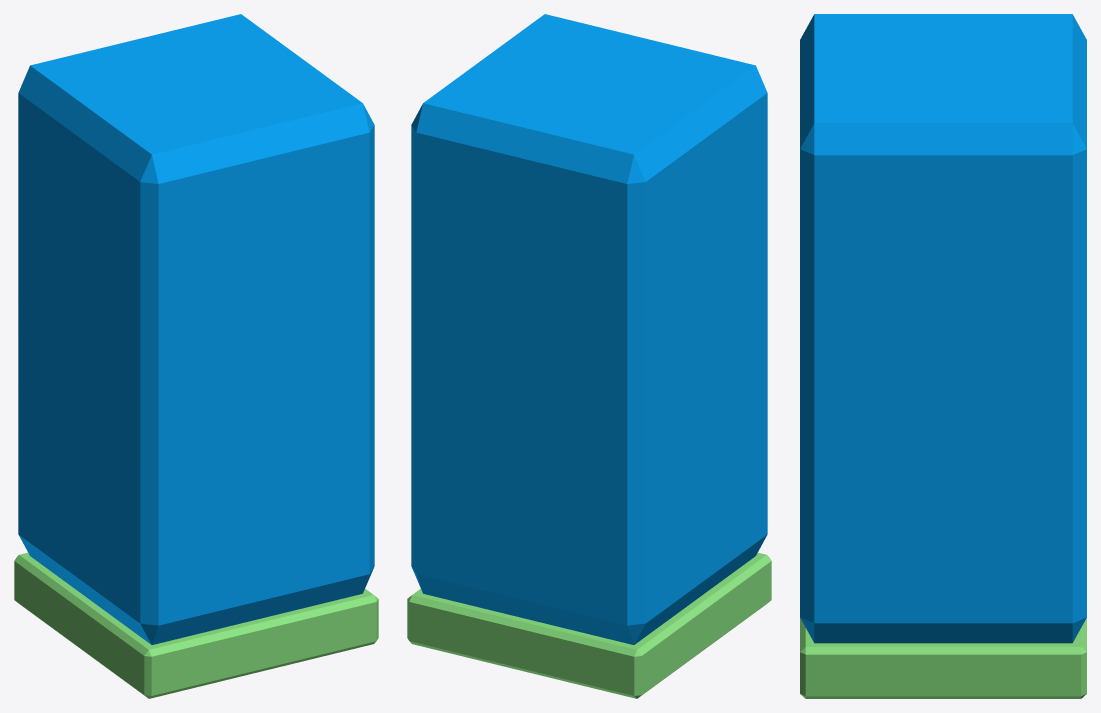
Rendered from Wall2.fbx.
3 views of the same model, side by side, from view 1: azimuth 30°, elevation 25°; view 2: azimuth 150°, elevation 25°; view 3: azimuth 270°, elevation 25° (orthographic). The views are drawn at different scales.
Parts seen in each view (by area): view 1: pCube2; view 2: pCube2; view 3: pCube2.
Boxes of the visible parts, x1,y1,x2,y2 form: pCube2: [14, 14, 378, 698]; pCube2: [407, 14, 771, 698]; pCube2: [800, 14, 1086, 698].
Size of the model in its own units: 1 by 2.2 by 1.
